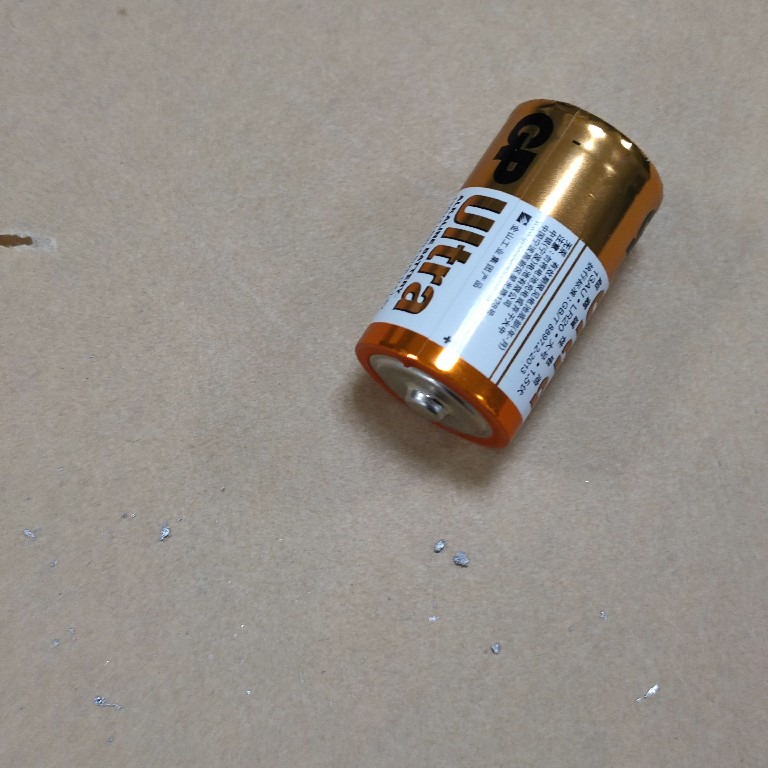charge: (350, 94, 666, 451)
